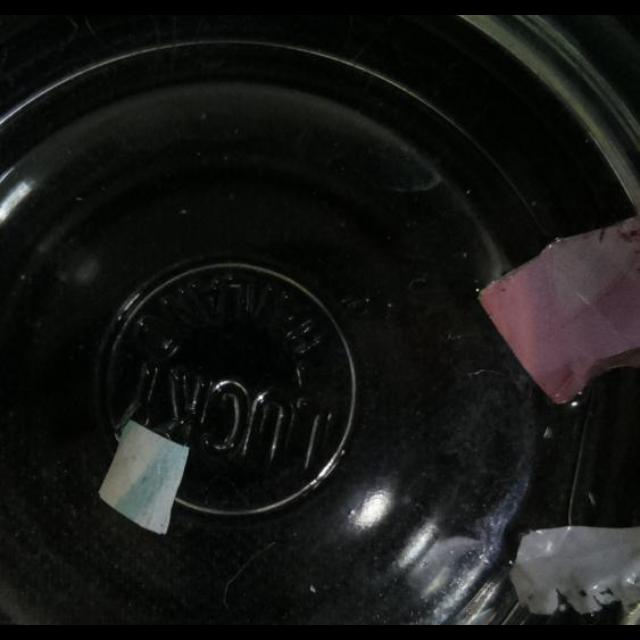Fragment: (476, 214, 640, 406), (504, 525, 640, 625), (98, 416, 192, 534)
microbeads: (310, 584, 316, 594)
